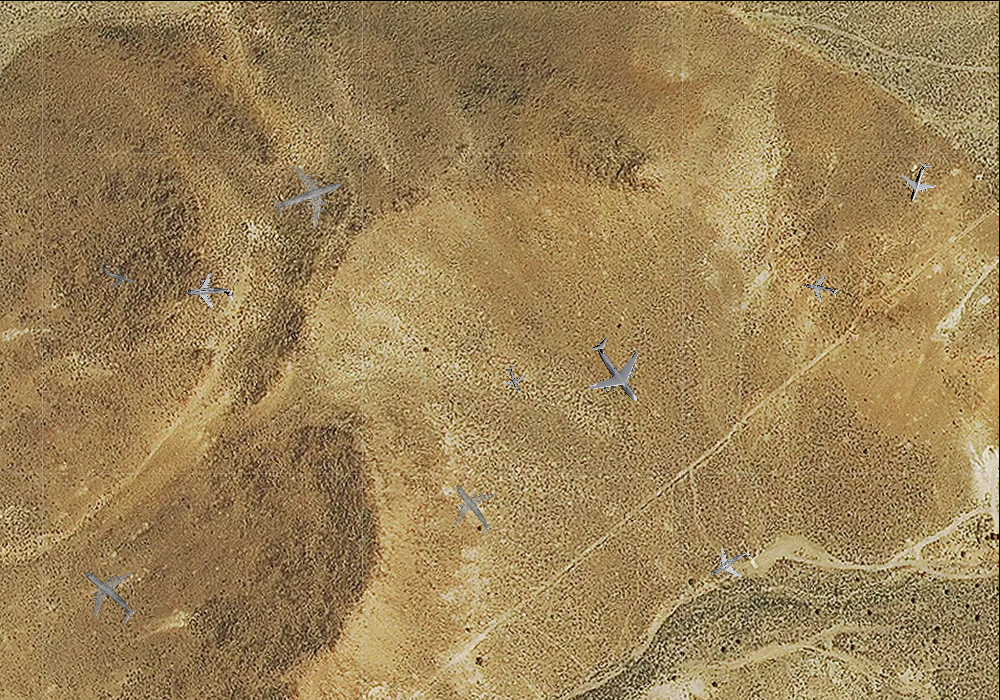plane: (568, 323, 665, 419), (63, 549, 154, 640), (263, 152, 352, 239), (434, 469, 511, 547), (700, 534, 762, 595), (893, 156, 944, 207), (182, 269, 234, 316), (97, 255, 138, 294), (801, 270, 840, 307), (497, 361, 532, 397)
